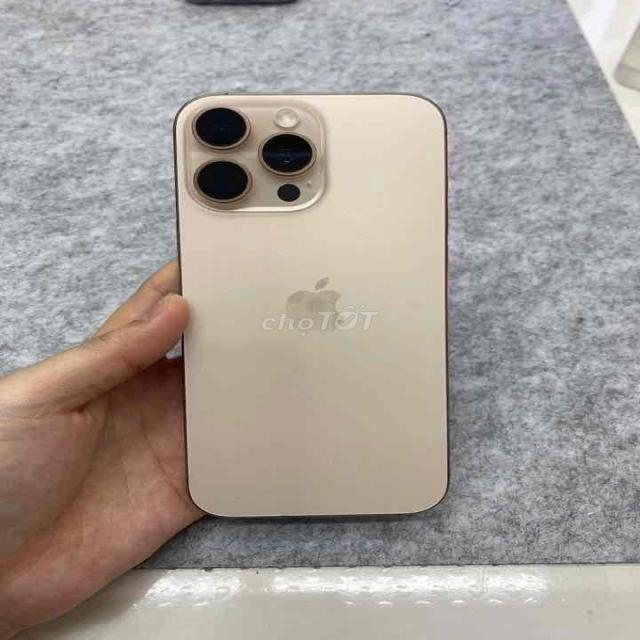gen_16: (174, 93, 447, 517)
